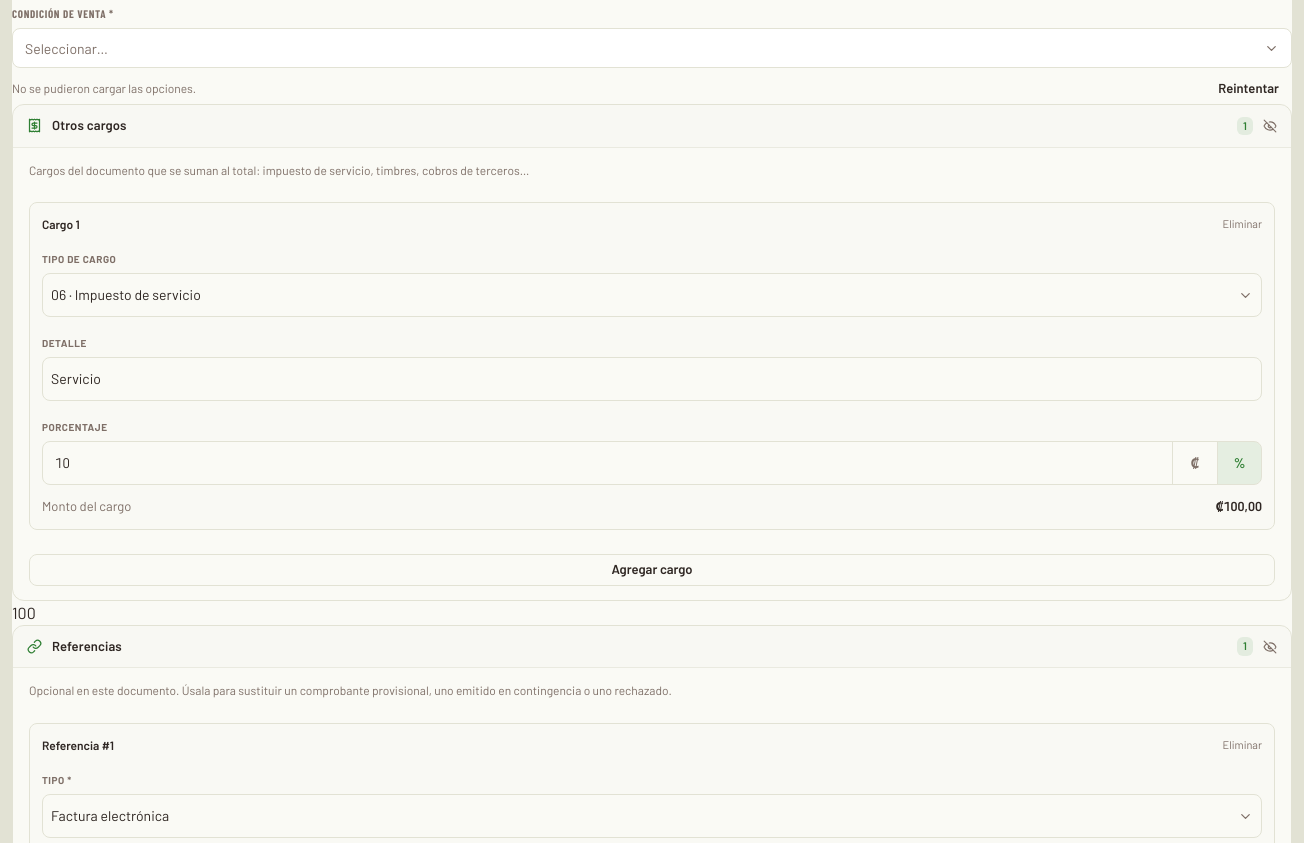
order billing catalogs › recovers sale-conditions after a failed request
Check: the message "No se pudieron cargar las opciones. Reintentar" is shown, box [12,72,1292,104]
Check: the message shows "No se pudieron cargar las opciones.", box [12,81,196,95]
Click the button "Reintentar".
click(1249, 88)  # box [1205,72,1292,104]
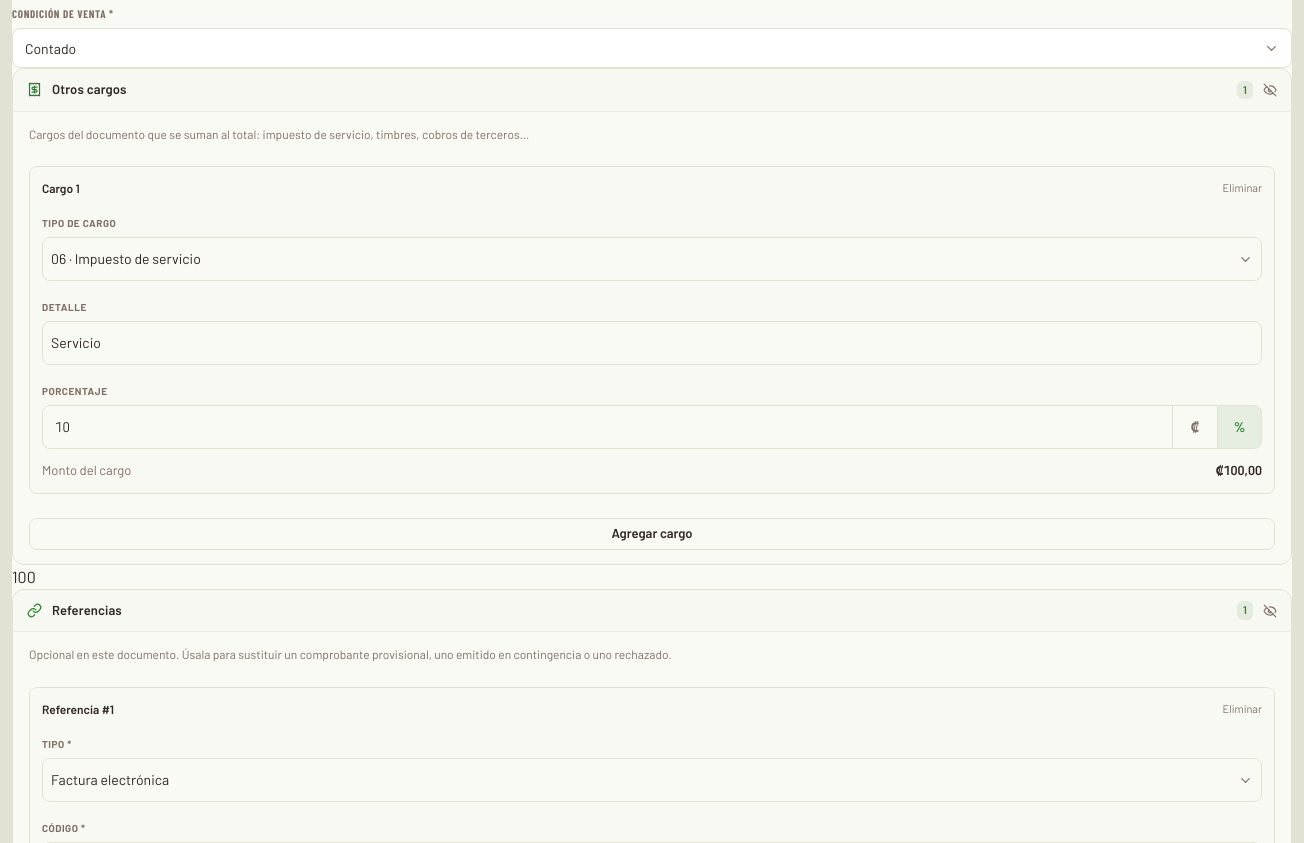
Check: the message "No se pudieron cargar las opciones. Reintentar" is gone
